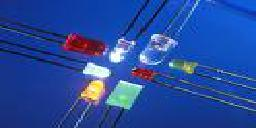LED: (139, 30, 178, 66), (60, 29, 105, 56), (167, 54, 214, 77), (107, 38, 132, 65), (82, 59, 111, 78), (81, 76, 100, 100), (133, 66, 157, 80)
